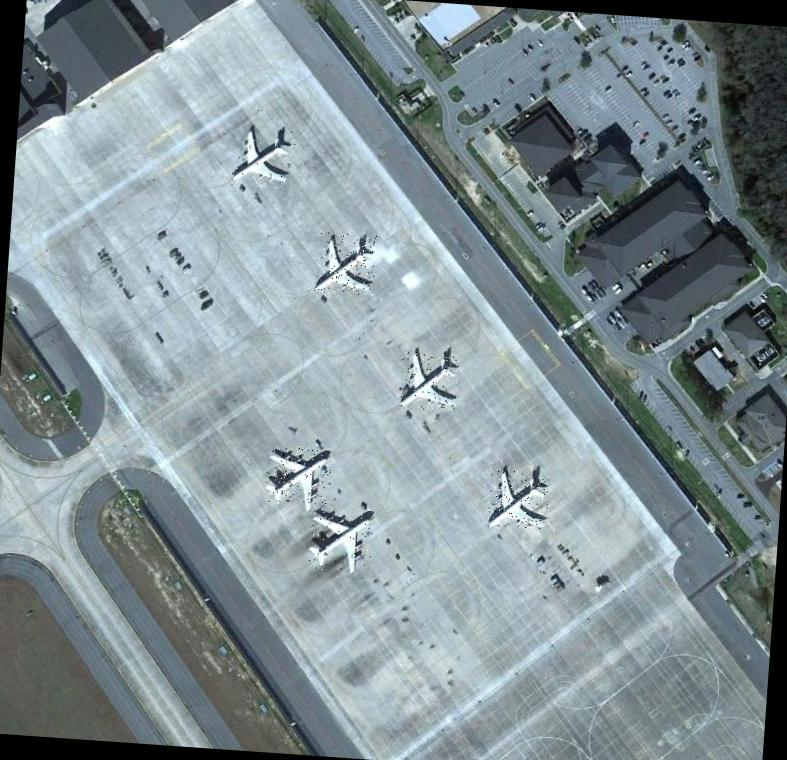A11: (263, 443, 331, 508), (308, 509, 372, 574), (314, 231, 376, 296), (228, 126, 296, 184), (485, 469, 549, 529), (398, 349, 459, 411)
